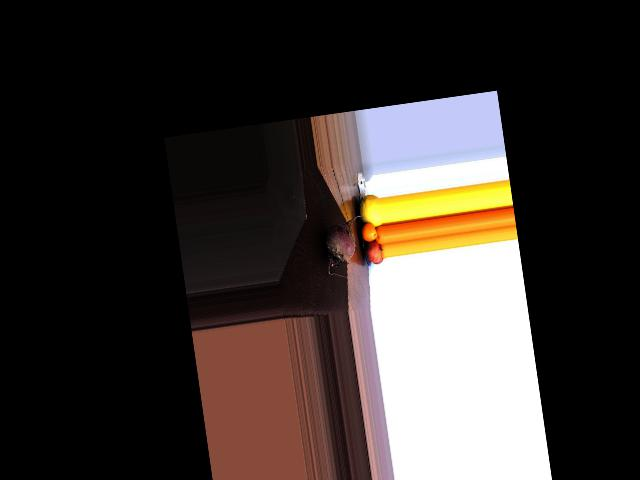beet: (320, 214, 373, 279)
